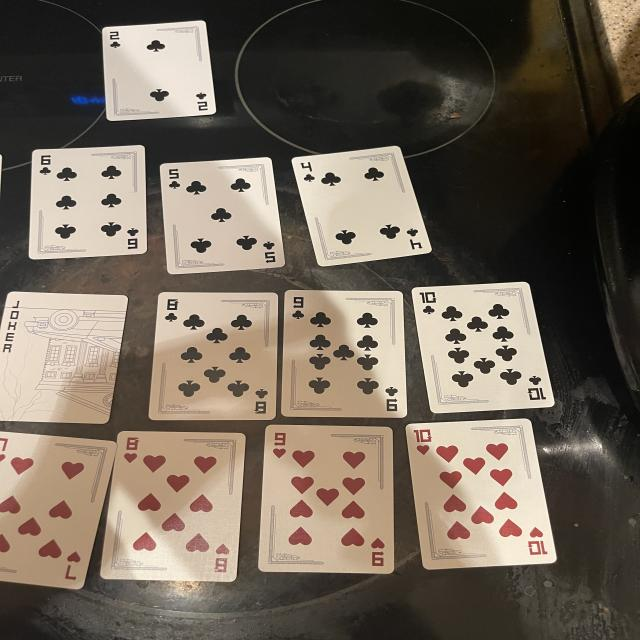10 of clubs: (412, 282, 555, 414)
10 of hearts: (407, 419, 557, 569)
2 of clubs: (102, 20, 217, 121)
4 of clubs: (292, 146, 432, 266)
5 of clubs: (160, 158, 285, 274)
6 of clubs: (28, 145, 147, 260)
7 of hearts: (0, 432, 117, 589)
8 of clubs: (148, 292, 278, 420), (182, 348, 202, 362)
8 of hearts: (100, 431, 245, 582)
9 of clubs: (280, 290, 407, 418)
9 of hearts: (258, 425, 395, 574)
Joker: (2, 292, 128, 424)
